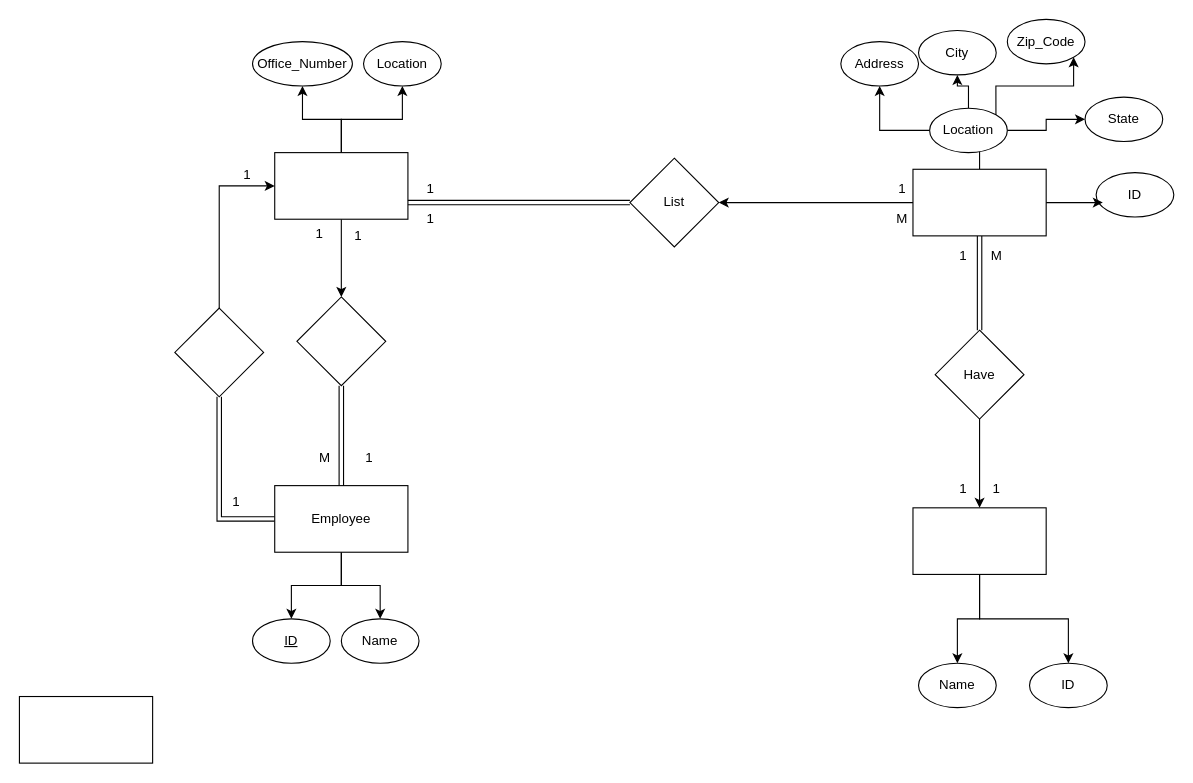
The diagram is 1193 pixels wide and 783 high, and some of its shapes have lost their labels. The centre of each missing label's shape, as x and y in pixels:
"Assign" belongs at pixel 341 341.
"Manage" belongs at pixel 219 352.
"Owner" belongs at pixel 979 540.
"Property" belongs at pixel 979 202.
"Sales_Office" belongs at pixel 341 185.
